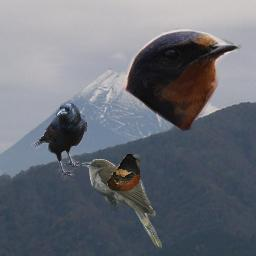Crow: (28, 99, 88, 180)
Cuckoo: (82, 159, 162, 250)
Swallow: (123, 28, 243, 132), (107, 154, 140, 192)
